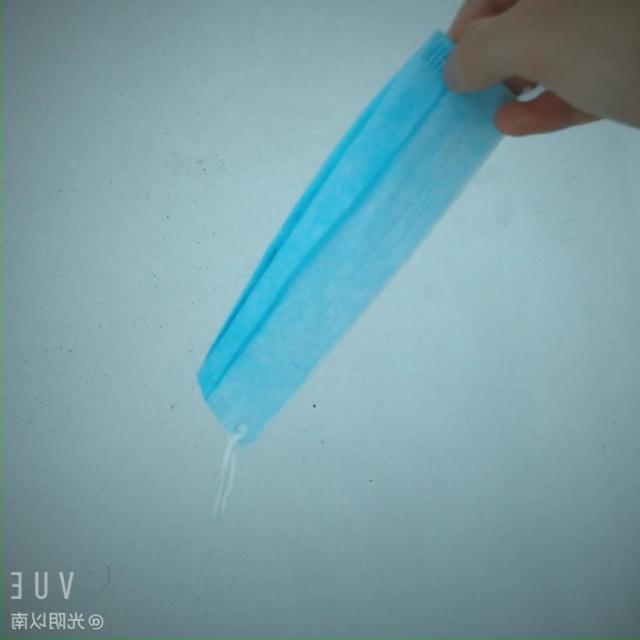face mask: (166, 33, 525, 453)
